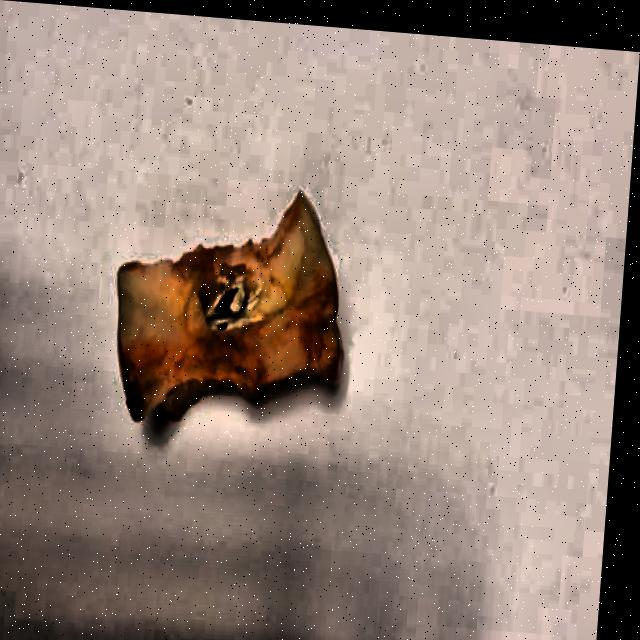biodegradable: (106, 174, 357, 467)
